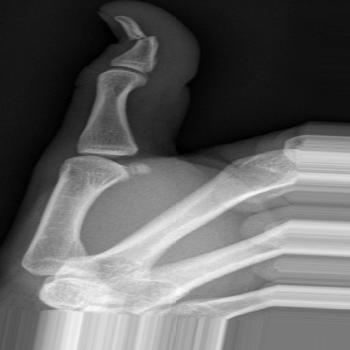Fracture: (123, 24, 168, 47)
